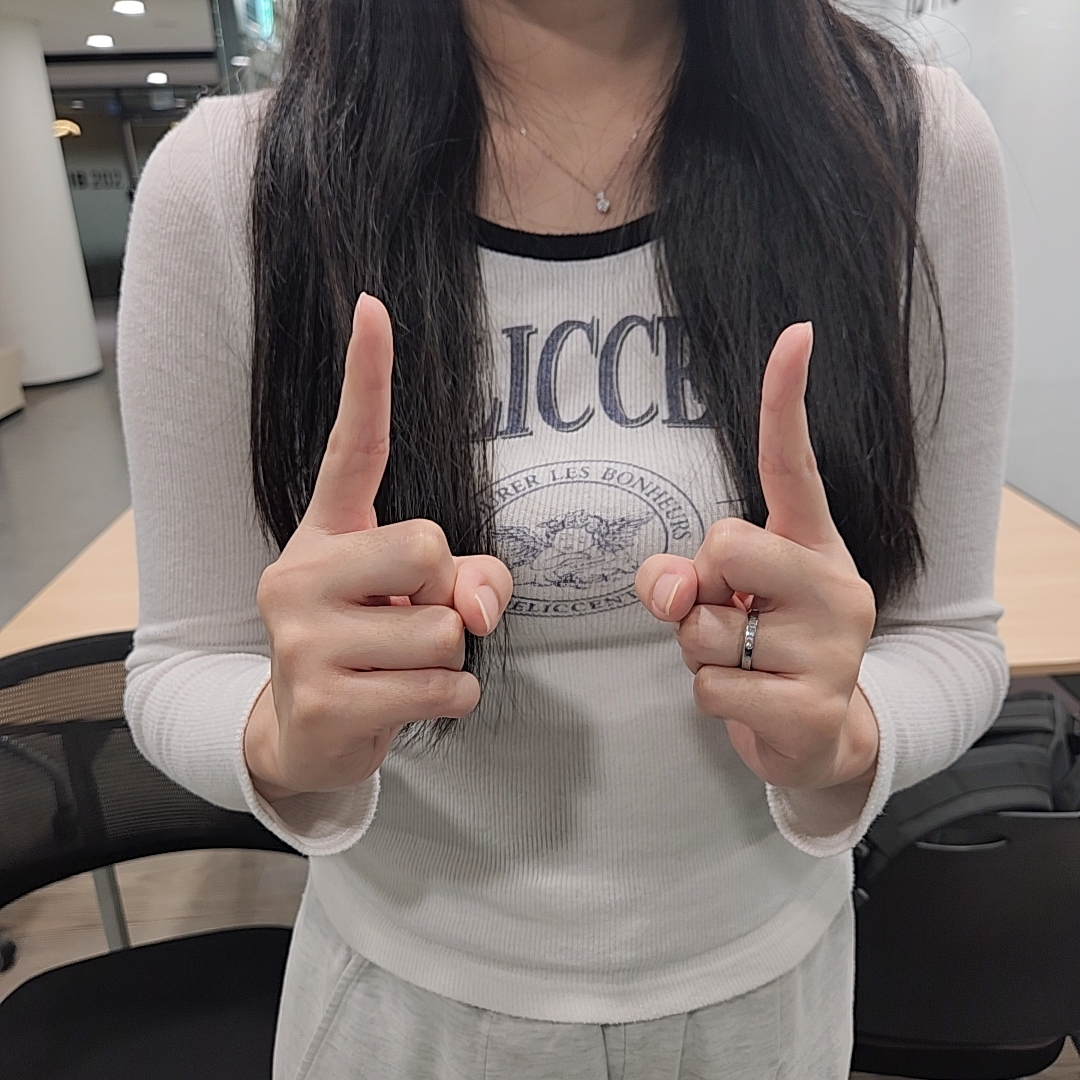meet: (256, 290, 875, 793)
